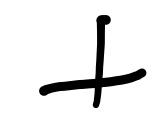plus: (39, 14, 146, 108)
